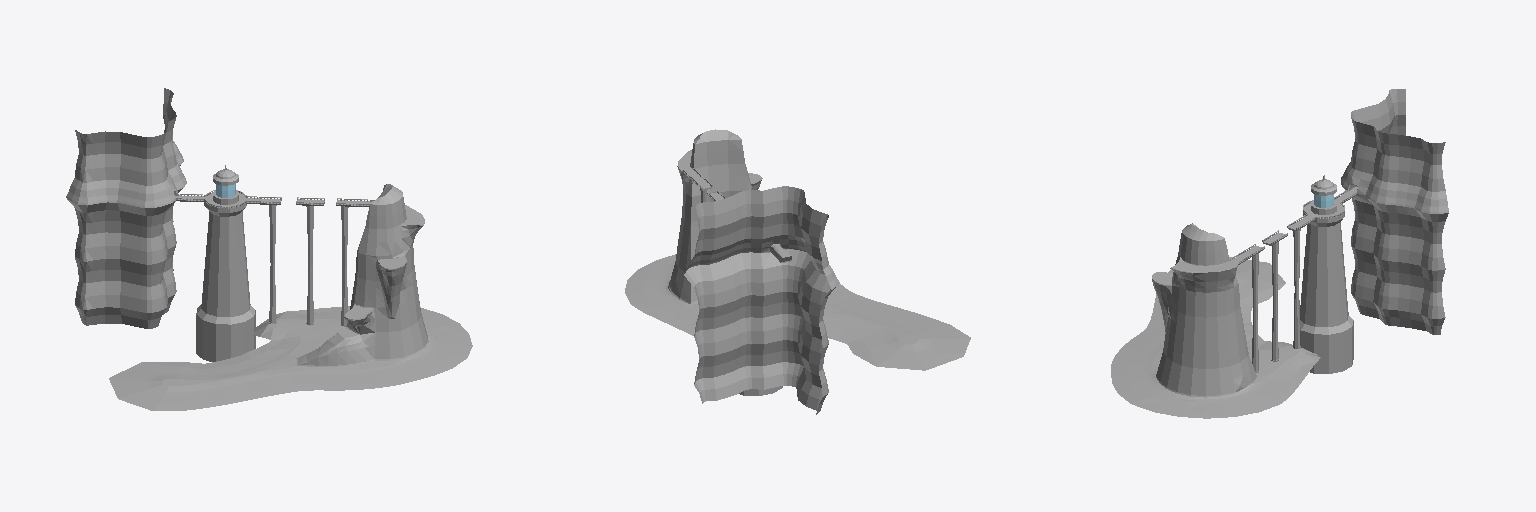
File: Chunk6.obj
3 renders of one model, left to right at view 1: azimuth 30°, elevation 25°; view 2: azimuth 150°, elevation 25°; view 3: azimuth 270°, elevation 25°, orthographic.
Bounding box in the file's own units: 1267 × 795 × 1113.